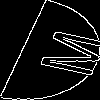M: (25, 25, 100, 79)
